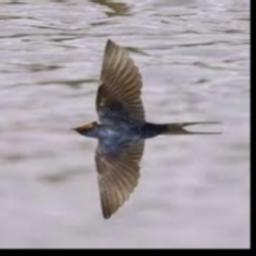Swallow: (72, 38, 225, 219)
